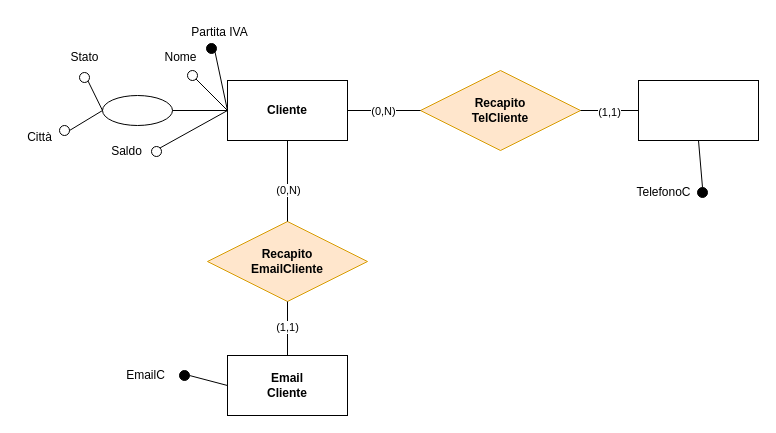
The diagram is 776 pixels wide and 433 high, and some of its shapes have lost their labels. The shapes that lost their labels are listed below. From the top down, each one's centre as x and y in pixels, then its label:
At point 137,110: "Locazione".
At point 698,110: "Tel Cliente".
